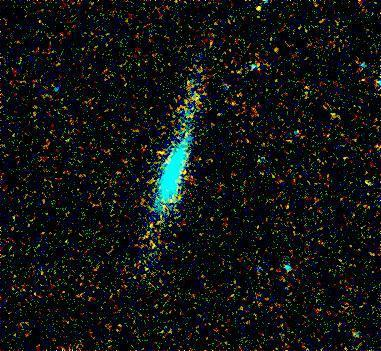star: (246, 0, 276, 26)
